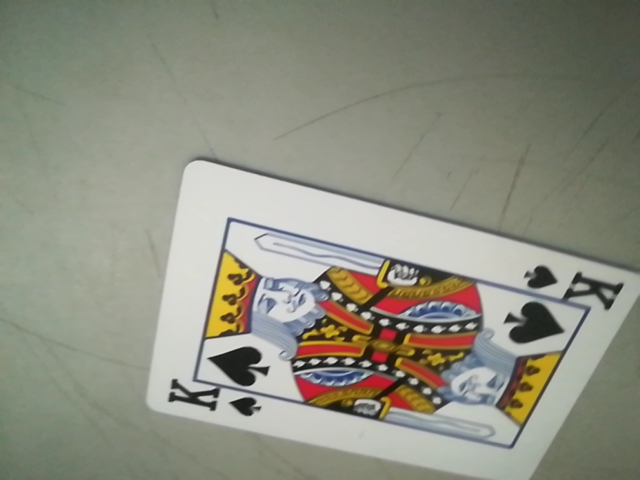ht k: (160, 381, 269, 419)
